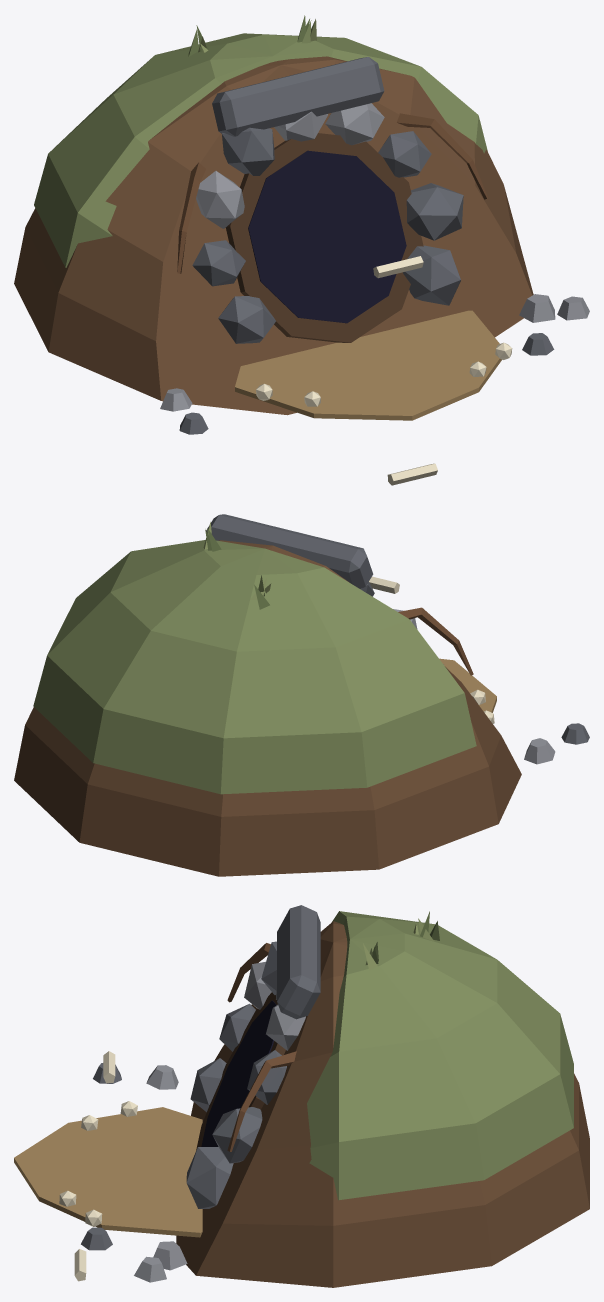
Rendered from Spawn Burrow.fbx.
The picture shows the model from 3 angles, top to bottom: view 1: azimuth 30°, elevation 25°; view 2: azimuth 150°, elevation 25°; view 3: azimuth 270°, elevation 25°; orthographic projection. The views are drawn at different scales.
Parts seen in each view (by area): view 1: Spawn Burrow; view 2: Spawn Burrow; view 3: Spawn Burrow.
Boxes of the visible parts, <box> form: Spawn Burrow: <box>14,15,589,485</box>; Spawn Burrow: <box>14,514,589,876</box>; Spawn Burrow: <box>14,905,589,1287</box>.
Bounding box in the file's own units: 0.94 × 0.6715 × 1.
